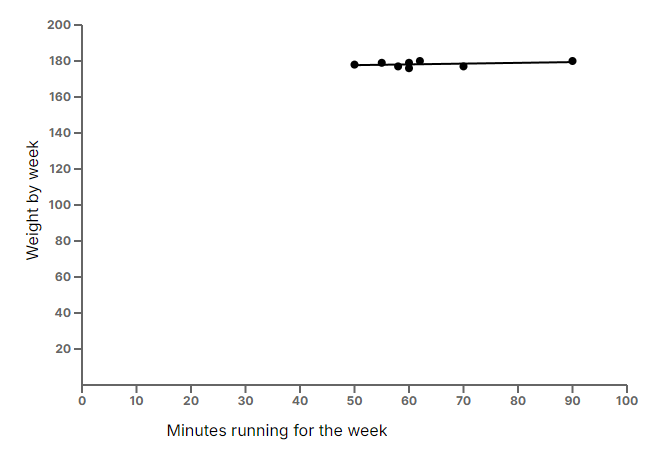

Layout of this report page (visuals, bound fields, positions):
{"tool":"powerbi","page":{"name":"Page 1","canvas":[1280,720],"ordinal":0},"visuals":[{"type":"scriptVisual","fields":{"Values":["housing.households","housing.total_rooms","housing.total_bedrooms","housing.population","housing.ocean_proximity","housing.latitude","housing.longitude","housing.housing_median_age"]},"box":[133.7,218,280.3,280.3],"z":0}]}

Visuals, with their boxes on the page's 1280x720 design canvas (x1, y1, x2, y2). These are canvas units, not pixel positions in the 655x452 screenshot, which may show the page scaled, cropped or inside an application window:
scriptVisual - housing.households x housing.total_rooms: crop(134, 218, 414, 498)
